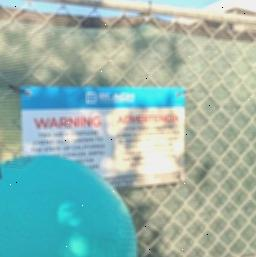algae: (0, 152, 138, 257)
